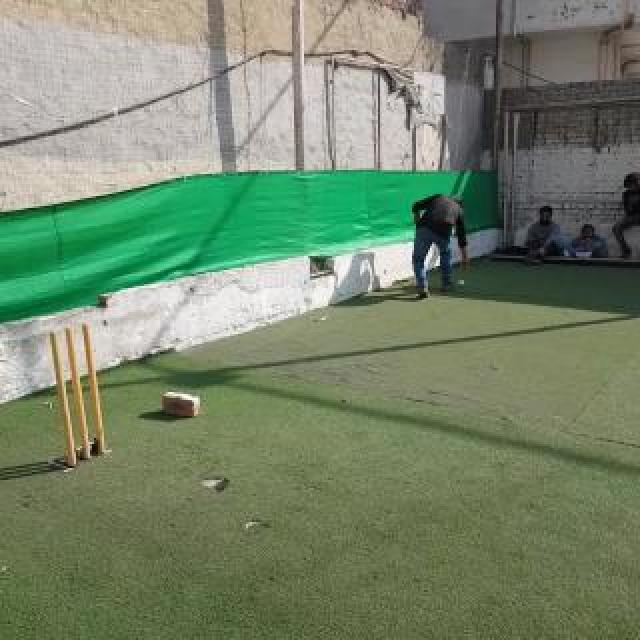ball: (458, 280, 464, 286)
